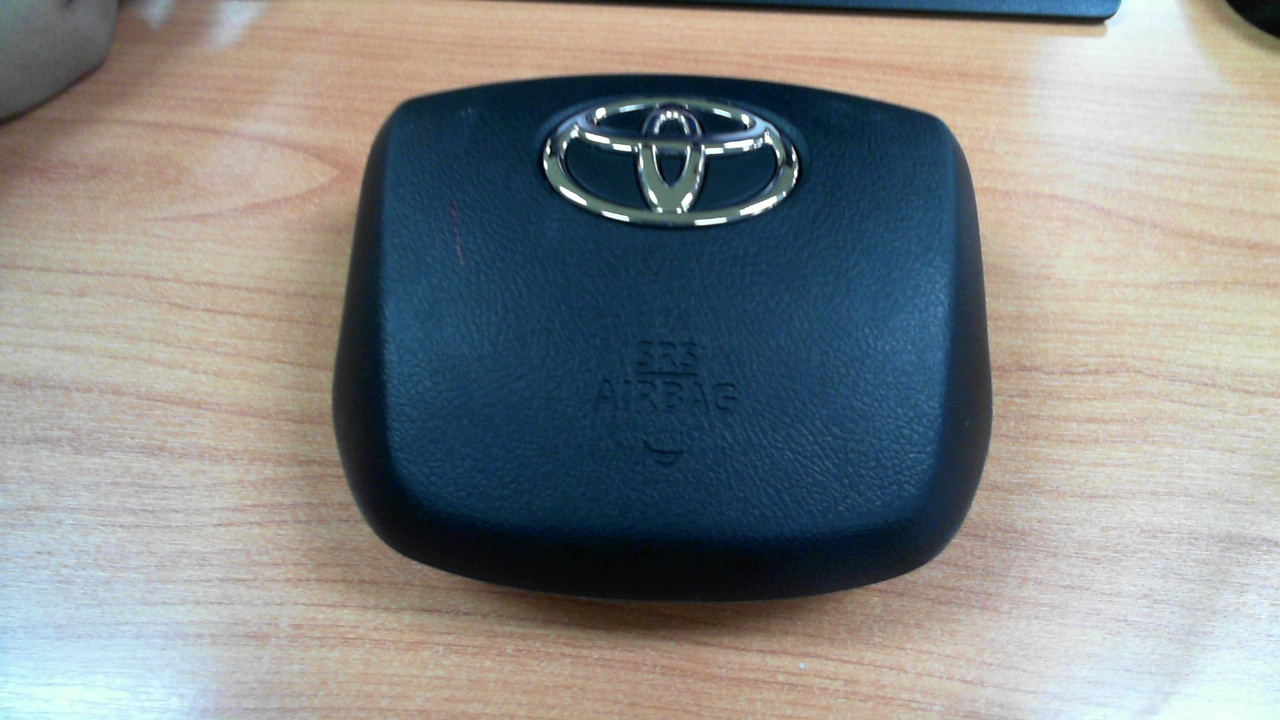Airbag: (331, 71, 994, 602)
Toyota: (543, 94, 799, 227)
